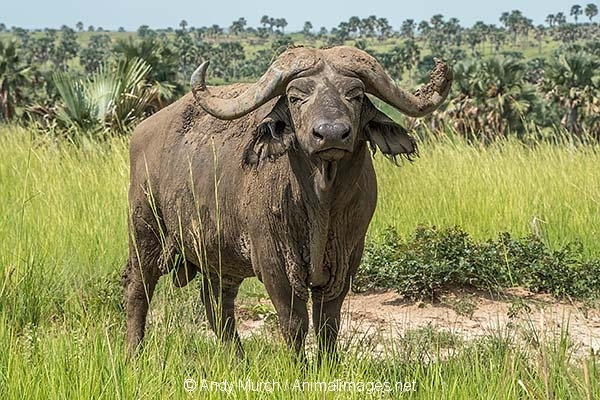buffalo: (120, 46, 455, 365)
